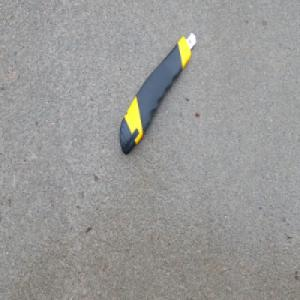Cutter: (119, 31, 197, 157)
